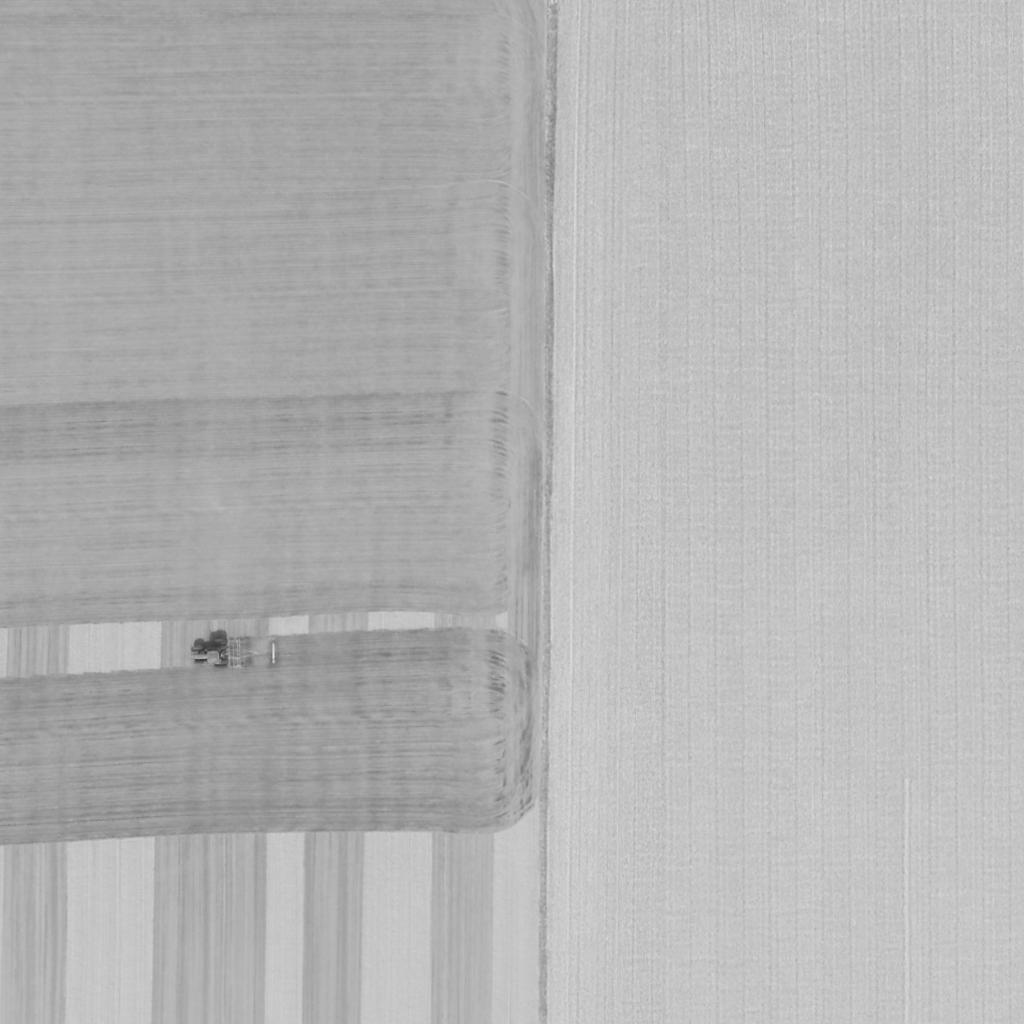vehicle: (189, 637, 227, 673)
